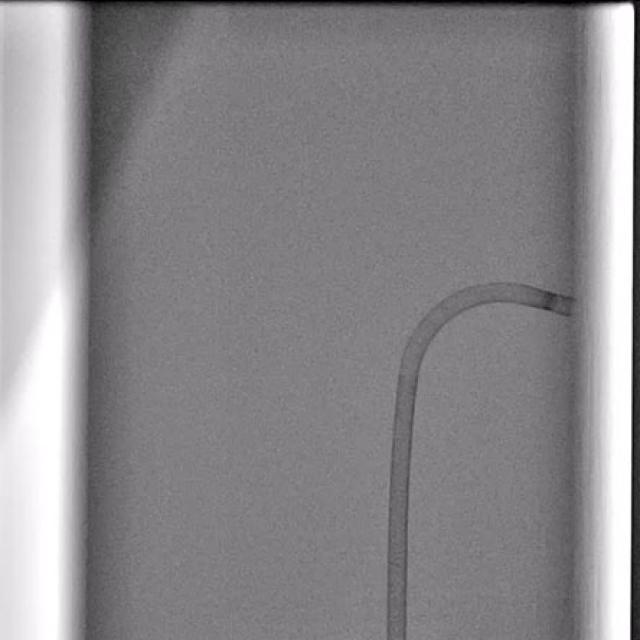bend: (398, 366, 418, 381)
entry: (386, 627, 407, 640)
marker: (544, 291, 557, 313)
tip: (560, 296, 572, 316)
